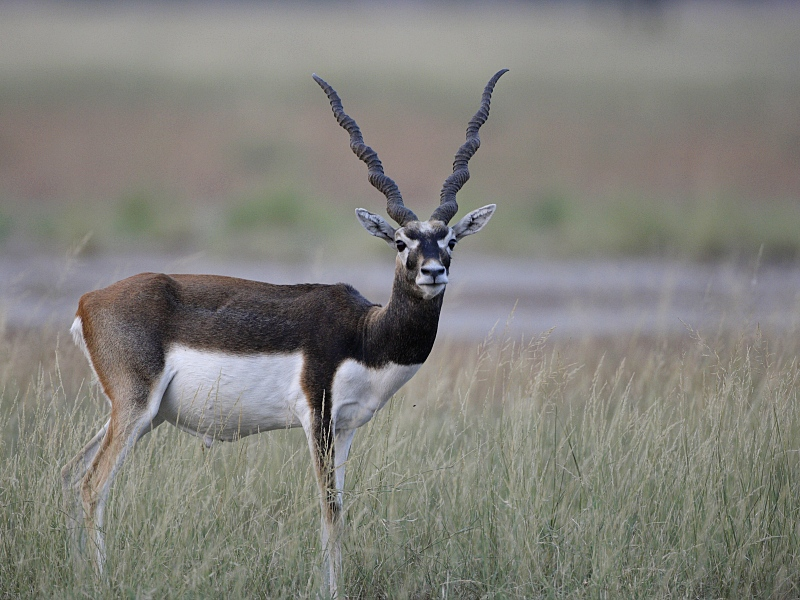Blackbuck: (67, 73, 514, 583)
